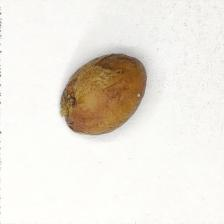NG: (59, 84, 84, 123)
